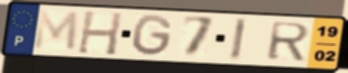7: (181, 14, 216, 60)
G: (131, 13, 175, 58)
H: (75, 9, 125, 57)
I: (228, 17, 249, 62)
M: (31, 9, 81, 53)
R: (265, 21, 313, 62)
